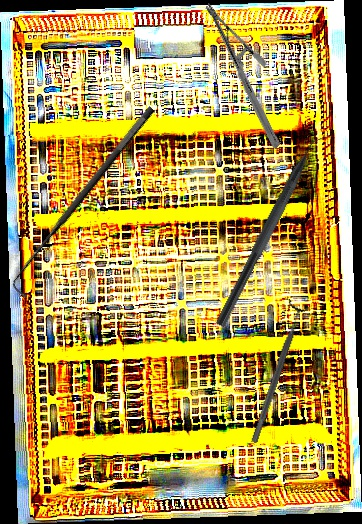Chopper: (214, 120, 337, 336)
Fixation Ring: (242, 299, 311, 446)
Hook Surgical: (3, 104, 170, 299)
Needle Holder: (162, 2, 323, 150)
